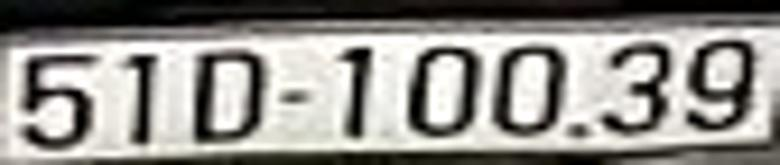-: (278, 81, 317, 106)
.: (568, 112, 590, 143)
0: (493, 44, 566, 138), (408, 44, 476, 138)
1: (335, 44, 375, 141), (120, 51, 158, 149)
3: (603, 35, 670, 137)
5: (18, 52, 100, 153)
9: (680, 34, 753, 134)
D: (189, 44, 270, 145)
